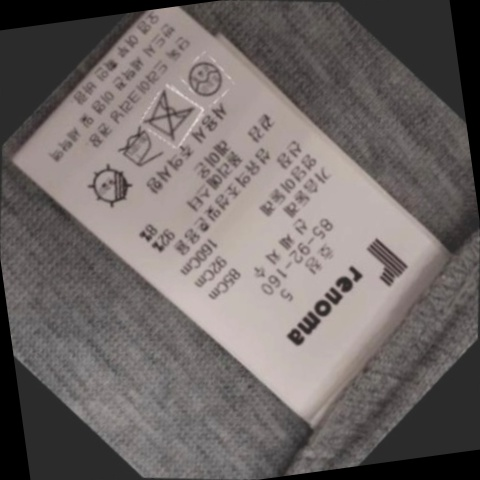DN_wash: (140, 87, 204, 144)
dry_clean_petrol_only: (182, 52, 232, 102)
iron_low: (111, 124, 168, 176)
line_dry_in_shade: (83, 160, 144, 214)
